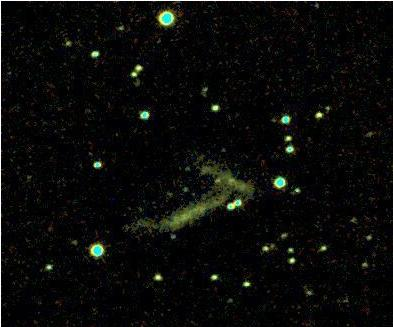star: (302, 0, 332, 21)
